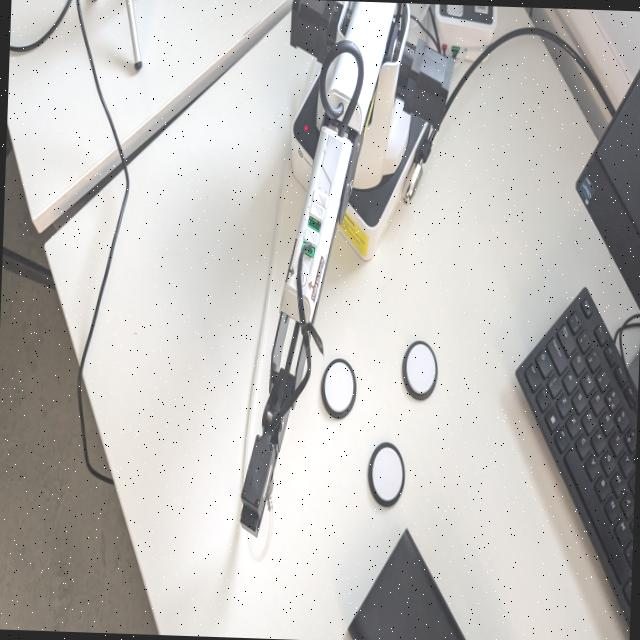Robot-end-effector-HF8z: (229, 429, 283, 541)
